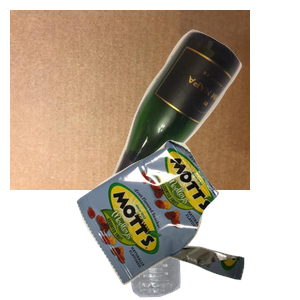cardboard: (10, 10, 250, 190)
glass: (87, 27, 300, 207)
plastic: (115, 176, 288, 300)
trash: (74, 137, 300, 300)
